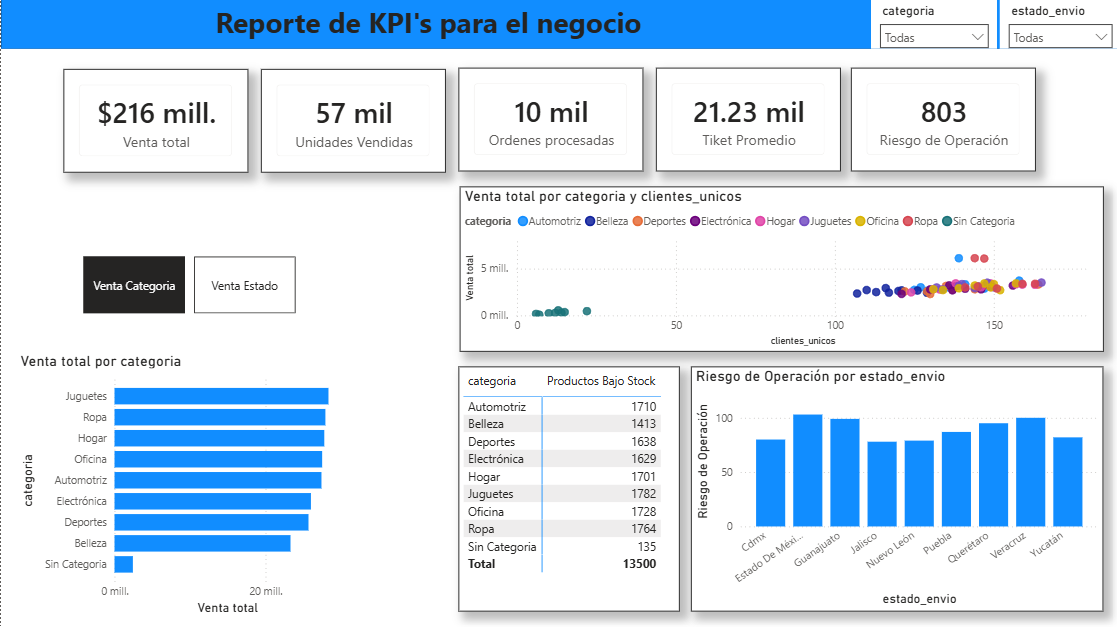

What the dashboard file says about the page in this screenshot:
{"tool":"powerbi","page":{"name":"Página 1","canvas":[1280,720],"ordinal":0},"visuals":[{"type":"cardVisual","fields":{"Data":["Medidas.Venta total"]},"box":[71.8,80,211.4,118.6],"z":0},{"type":"cardVisual","fields":{"Data":["Medidas.Unidades Vendidas"]},"box":[297.6,79.6,211.4,118.6],"z":1000},{"type":"cardVisual","fields":{"Data":["Medidas.Ordenes procesadas"]},"box":[523.3,78.9,211.4,118.6],"z":2000},{"type":"cardVisual","fields":{"Data":["Medidas.Tiket Promedio"]},"box":[749,78.6,211.4,118.6],"z":3000},{"type":"cardVisual","fields":{"Data":["Medidas.Riesgo de Operación"]},"box":[971.4,78.6,211.4,118.6],"z":4000},{"type":"treemap","fields":{"Group":["resumen_retail.estado_envio"],"Values":["Medidas.Venta total"]},"box":[17.1,402.9,395.7,305.7],"z":6000},{"type":"scatterChart","fields":{"X":["resumen_retail.clientes_unicos"],"Y":["Medidas.Venta total"],"Series":["resumen_retail.categoria"]},"box":[524.3,214.3,735.7,188.6],"z":7000},{"type":"bookmarkNavigator","box":[94.3,294.3,242.9,65.7],"z":8000},{"type":"pivotTable","fields":{"Rows":["resumen_retail.categoria"],"Values":["Medidas.Productos Bajo Stock"]},"box":[522.9,420,252.9,280],"z":9000},{"type":"shape","box":[0,0,1280,57.1],"z":9500},{"type":"columnChart","fields":{"Category":["resumen_retail.estado_envio"],"Y":["Medidas.Riesgo de Operación"]},"box":[788.6,420.1,471.4,280],"z":10000},{"type":"textbox","box":[240,0,565.7,57.1],"z":12000},{"type":"slicer","fields":{"Values":["resumen_retail.categoria"]},"box":[994.3,0,144.3,57.1],"z":12001},{"type":"slicer","fields":{"Values":["resumen_retail.estado_envio"]},"box":[1141.4,0,138.6,57.1],"z":12002}]}

Visuals, with their boxes in screenshot pixels (x1, y1, x2, y2), scaled from the page's 1280x720 canvas onto the 1117x627 screenshot:
cardVisual - Medidas.Venta total: pyautogui.locateOnScreen(63, 70, 247, 173)
cardVisual - Medidas.Unidades Vendidas: pyautogui.locateOnScreen(260, 69, 444, 173)
cardVisual - Medidas.Ordenes procesadas: pyautogui.locateOnScreen(457, 69, 641, 172)
cardVisual - Medidas.Tiket Promedio: pyautogui.locateOnScreen(654, 68, 838, 172)
cardVisual - Medidas.Riesgo de Operación: pyautogui.locateOnScreen(848, 68, 1032, 172)
treemap - resumen_retail.estado_envio x Medidas.Venta total: pyautogui.locateOnScreen(15, 351, 360, 617)
scatterChart - resumen_retail.clientes_unicos x Medidas.Venta total: pyautogui.locateOnScreen(458, 187, 1100, 351)
bookmarkNavigator: pyautogui.locateOnScreen(82, 256, 294, 314)
pivotTable - resumen_retail.categoria x Medidas.Productos Bajo Stock: pyautogui.locateOnScreen(456, 366, 677, 610)
shape: pyautogui.locateOnScreen(0, 0, 1116, 50)
columnChart - resumen_retail.estado_envio x Medidas.Riesgo de Operación: pyautogui.locateOnScreen(688, 366, 1100, 610)
textbox: pyautogui.locateOnScreen(209, 0, 703, 50)
slicer - resumen_retail.categoria: pyautogui.locateOnScreen(868, 0, 994, 50)
slicer - resumen_retail.estado_envio: pyautogui.locateOnScreen(996, 0, 1116, 50)
